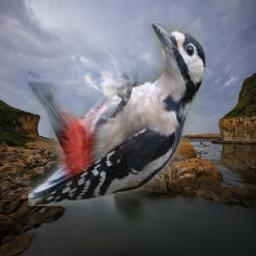Woodpecker: (28, 23, 206, 206)
